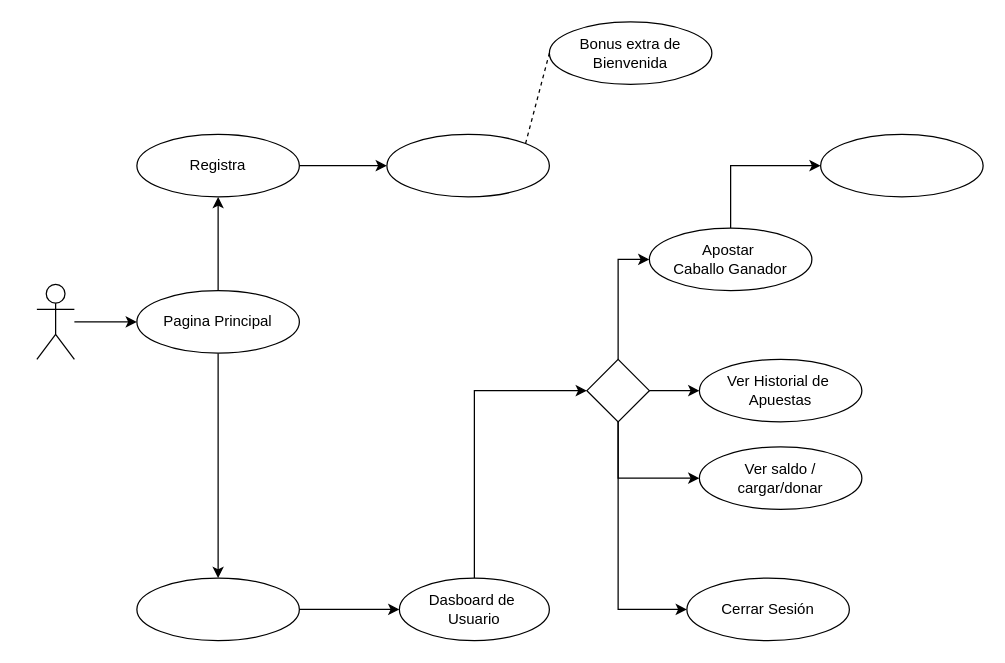
Some shapes in this 1005 by 663 pixel diagram are drawn without their labels. Here are the shapes that lost their labels. From the top down, the box of each, then its label:
(386, 133, 549, 197): Completar Perfil
(819, 133, 983, 197): Ingresar Monto
(36, 283, 74, 359): USUARIO
(136, 577, 299, 641): Iniciar Sesion
